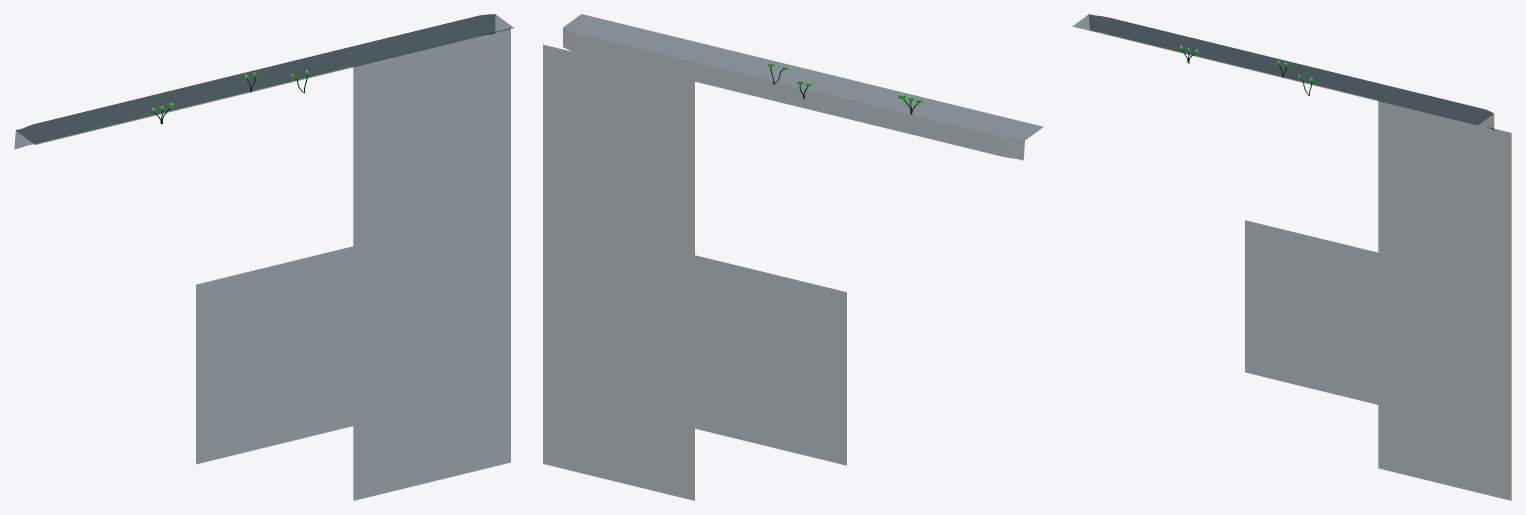
The model's file is cave-water.obj.
The picture shows the model from 3 angles, left to right: view 1: azimuth 30°, elevation 25°; view 2: azimuth 150°, elevation 25°; view 3: azimuth 330°, elevation 25°; orthographic projection. The views are drawn at different scales.
Parts seen in each view (by area): view 1: WaterDraw.002_Plane.002, WaterDraw.003_Plane.003, WaterDraw.001_Plane.001, WaterDraw_Plane; view 2: WaterDraw.002_Plane.002, WaterDraw.003_Plane.003, WaterDraw.001_Plane.001, WaterDraw_Plane; view 3: WaterDraw.002_Plane.002, WaterDraw.003_Plane.003, WaterDraw.001_Plane.001, WaterDraw_Plane.
Part boxes in pixels (x1,y1,x2,y2): WaterDraw.002_Plane.002: (353, 208, 510, 500); WaterDraw.003_Plane.003: (196, 246, 353, 464); WaterDraw.001_Plane.001: (353, 28, 510, 245); WaterDraw_Plane: (14, 14, 513, 148); WaterDraw.002_Plane.002: (543, 218, 694, 500); WaterDraw.003_Plane.003: (695, 255, 846, 465); WaterDraw.001_Plane.001: (543, 44, 694, 254); WaterDraw_Plane: (563, 14, 1043, 160); WaterDraw.002_Plane.002: (1378, 253, 1511, 500); WaterDraw.003_Plane.003: (1245, 220, 1378, 404); WaterDraw.001_Plane.001: (1378, 101, 1511, 284); WaterDraw_Plane: (1072, 14, 1494, 129).
Size of the model in its own units: 104 by 91.65 by 7.9.
